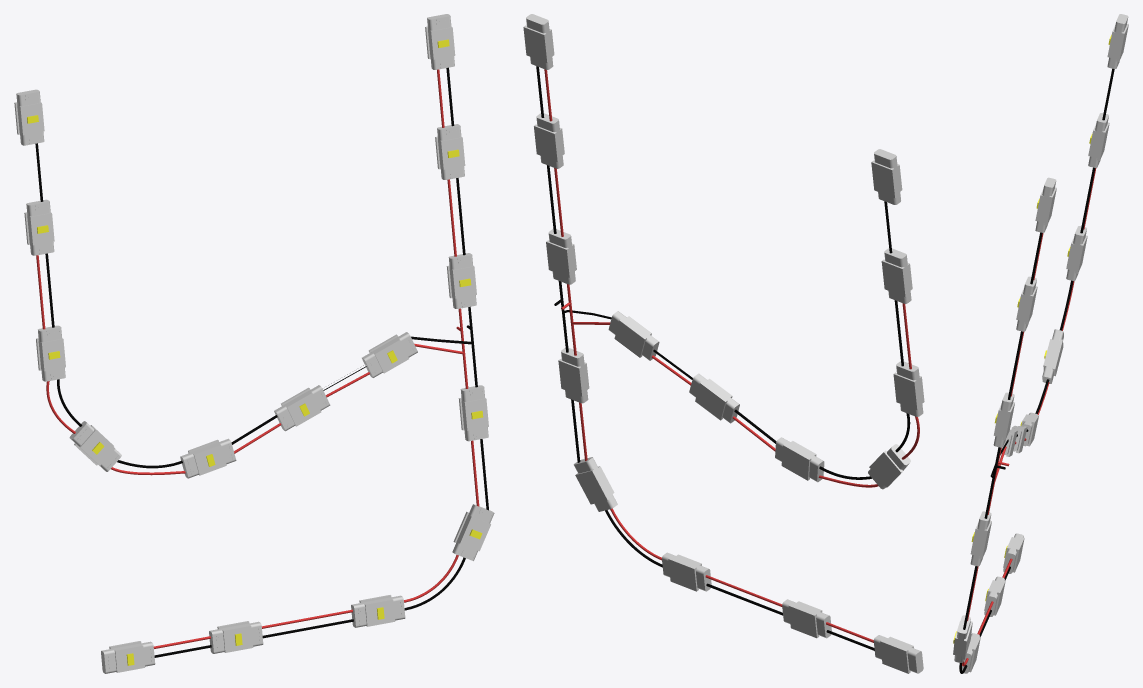
The model's file is FIXED-LED.glb.
3 views of the same model, side by side, from view 1: azimuth 30°, elevation 25°; view 2: azimuth 150°, elevation 25°; view 3: azimuth 270°, elevation 25° (orthographic). The views are drawn at different scales.
Parts seen in each view (by area): view 1: FIXED-LED; view 2: FIXED-LED; view 3: FIXED-LED.
Boxes of the visible parts, x1=… form: FIXED-LED: x1=14, y1=14, x2=494, y2=673; FIXED-LED: x1=523, y1=14, x2=924, y2=673; FIXED-LED: x1=953, y1=14, x2=1128, y2=673.
Size of the model in its own units: 34.77 by 47.01 by 13.9.
